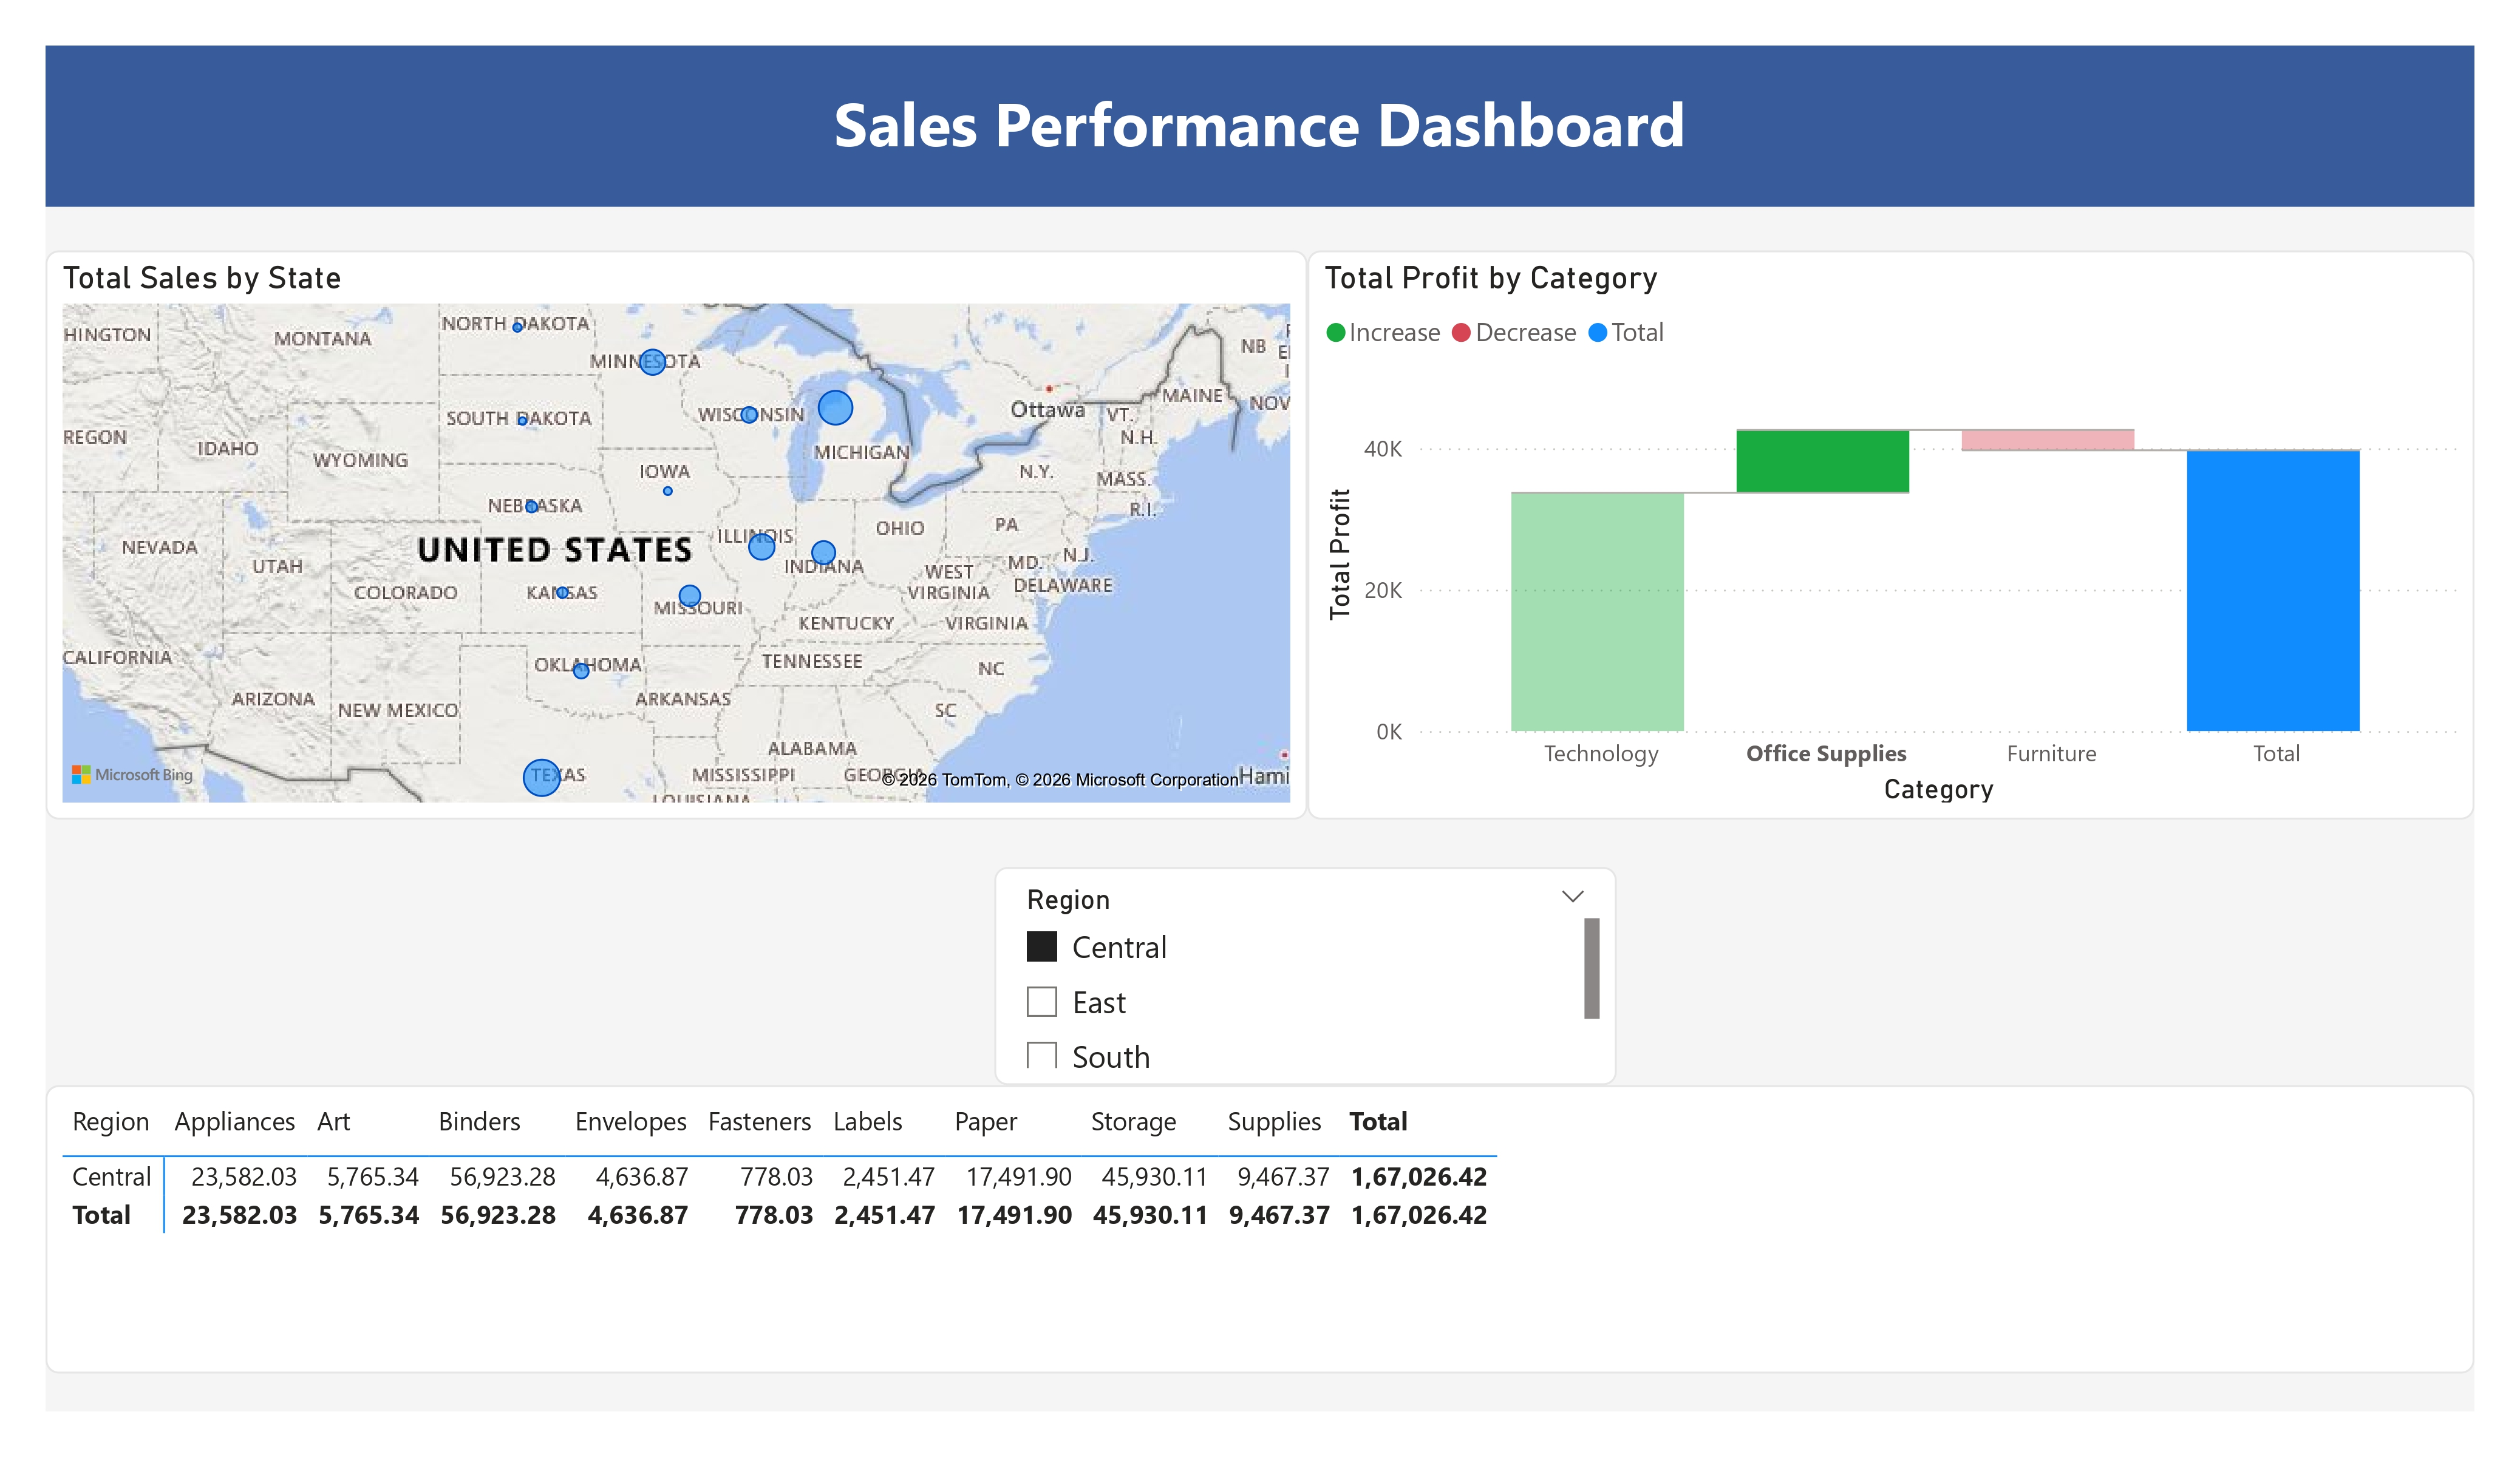

What the dashboard file says about the page in this screenshot:
{"tool":"powerbi","page":{"name":"Page 2","canvas":[1280,720],"ordinal":1},"visuals":[{"type":"map","fields":{"Category":["Orders.State"],"Size":["Orders.Total Sales"]},"box":[0,108.3,665,300],"z":0},{"type":"pivotTable","fields":{"Rows":["Orders.Region"],"Columns":["Orders.Sub-Category"],"Values":["Orders.Total Sales"]},"box":[0,547.5,1280,152.5],"z":1000},{"type":"waterfallChart","fields":{"Y":["Orders.Total Profit"],"Category":["Orders.Category"]},"box":[665,108.3,615,300],"z":2000},{"type":"slicer","fields":{"Values":["Orders.Region"]},"box":[500,432.5,327.5,115],"z":3000},{"type":"shape","box":[0,0,1280,85],"z":4000},{"type":"textbox","box":[0,13.3,1280,55],"z":5000}]}

Visuals, with their boxes on the page's 1280x720 design canvas (x1, y1, x2, y2). These are canvas units, not pixel positions in the 2520x1457 screenshot, which may show the page scaled, cropped or inside an application window:
map - Orders.State x Orders.Total Sales: <bbox>0, 108, 665, 408</bbox>
pivotTable - Orders.Region x Orders.Sub-Category: <bbox>0, 548, 1280, 700</bbox>
waterfallChart - Orders.Total Profit x Orders.Category: <bbox>665, 108, 1280, 408</bbox>
slicer - Orders.Region: <bbox>500, 432, 828, 548</bbox>
shape: <bbox>0, 0, 1280, 85</bbox>
textbox: <bbox>0, 13, 1280, 68</bbox>
